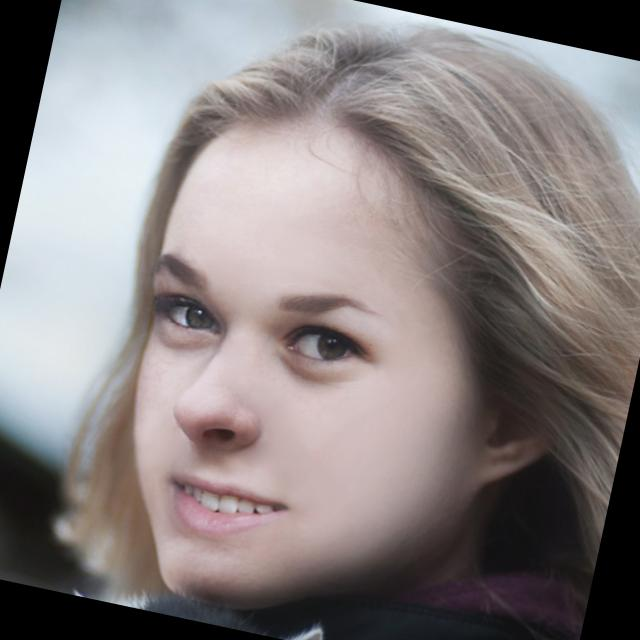face: (94, 120, 555, 640)
